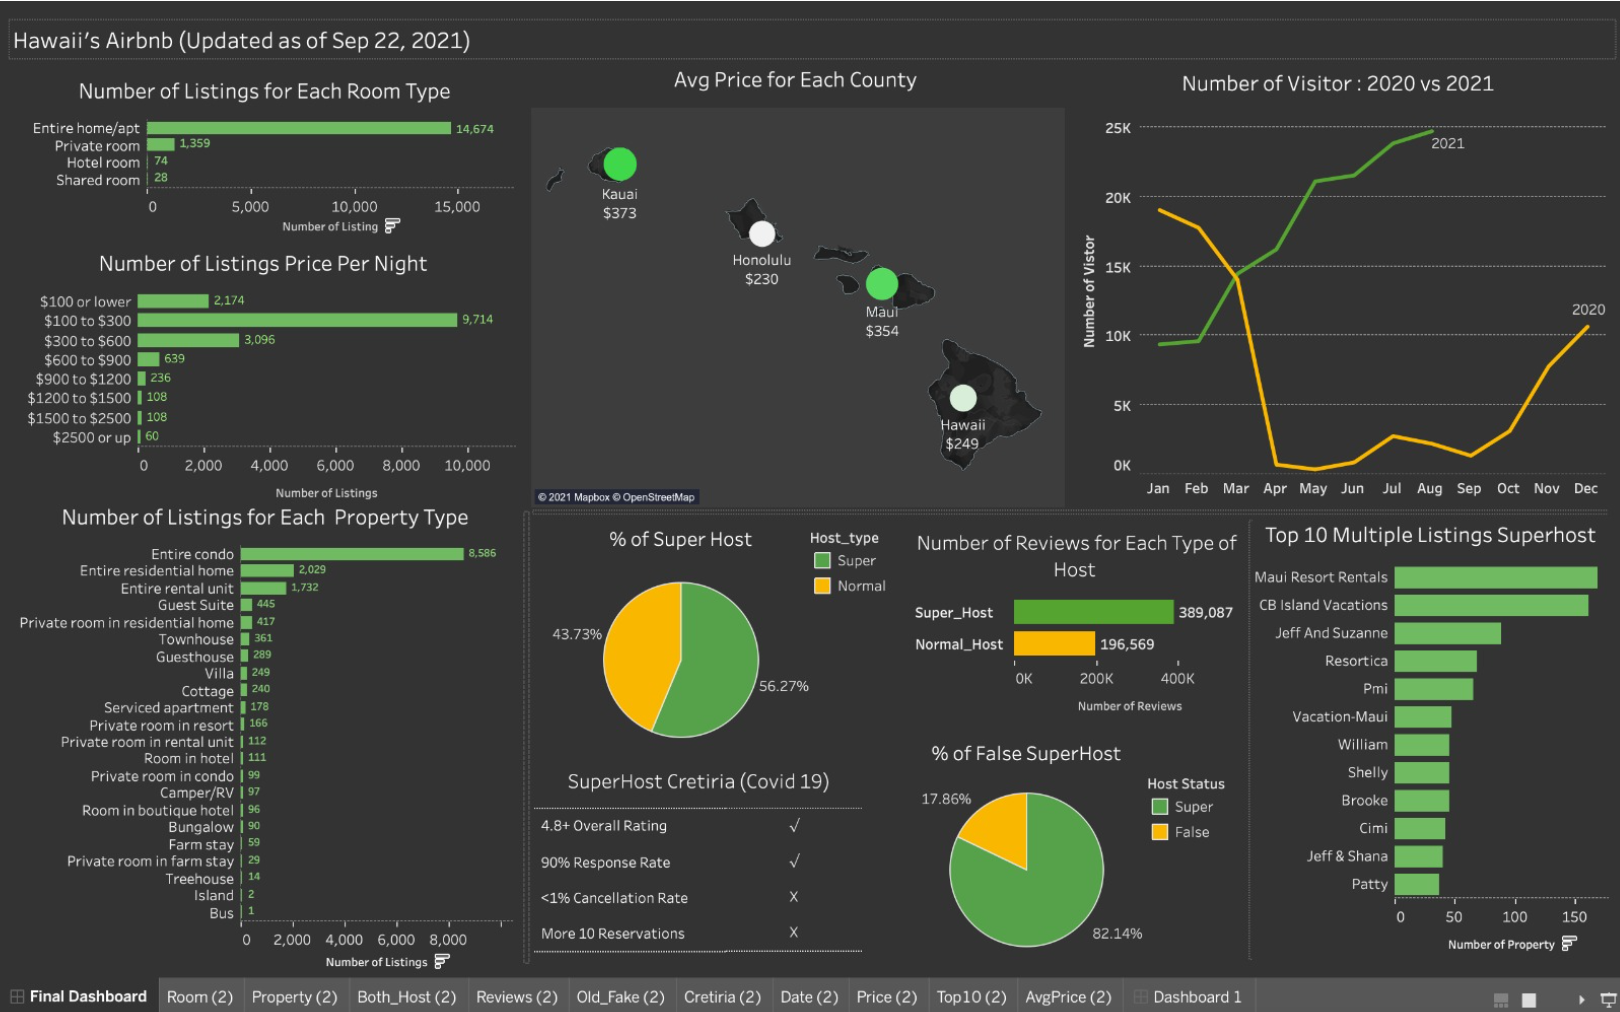

What the dashboard file says about the page in this screenshot:
{"tool":"tableau","page":{"name":"Final Dashboard ","canvas":[1000,1000],"units":"permille","ordinal":1},"visuals":[{"type":"title","box":[5.6,18.2,991,41.9]},{"type":"worksheet","title":"AvgPrice (2)","mark":"Automatic","rows":["latitude"],"cols":["longitude"],"box":[319.1,60.1,337.1,457.2]},{"type":"worksheet","title":"Date (2)","mark":"Line","rows":["Sheet1_F7D8DDAF36E140A29CE656B164C6A02B"],"cols":["Months"],"box":[659.5,63.8,330.3,453.6]},{"type":"worksheet","title":"Room (2)","mark":"Automatic","rows":["room_type (Sheet12)"],"cols":["counts (Sheet12)"],"box":[9.7,71.9,307.8,167.3]},{"type":"worksheet","title":"Price (2)","mark":"Bar","cols":["host_id"],"box":[13.6,250,301.9,248.2]},{"type":"text","box":[328.1,521,662.9,5.5]},{"type":"text","box":[322.3,521.6,3.9,464]},{"type":"worksheet","title":"Top10 (2)","mark":"Bar","rows":["host_name (Union)"],"cols":["Host_List_count (Union)"],"box":[772.1,525.4,219.5,457.6]},{"type":"worksheet","title":"Both_Host (2)","mark":"Pie","box":[330.2,531.1,179.2,240.1]},{"type":"text","box":[769.2,531.1,2.8,450.6]},{"type":"legend","title":"Both_Host (2)","param":"[federated.1mq5av61gt58yj18f8amq0g7day8].[none:host_is_superhost (Sheet16):nk]","box":[478.4,536.7,66.6,108.8]},{"type":"worksheet","title":"Cretiria (2)","mark":"Text","rows":["SuperHost Requirement"],"box":[565.8,540.8,203.7,216]},{"type":"worksheet","title":"Old_Fake (2)","mark":"Pie","box":[557.6,745.9,165.6,232.3]},{"type":"worksheet","title":"Reviews (2)","mark":"Bar","rows":["host_is_superhost"],"cols":["number_of_reviews"],"box":[324.1,773.1,231.5,192.4]},{"type":"legend","title":"Old_Fake (2)","param":"[federated.1mq5av61gt58yj18f8amq0g7day8].[none:Condtion:nk]","box":[706.8,791.3,62.8,88.9]}]}

Visuals, with their boxes on the dashboard's canvas, which has no fixed pixel size, in thousandths of its width and height (x1, y1, x2, y2). These are canvas units, not pixel positions in the 1620x1012 screenshot, which may show the page scaled, cropped or inside an application window:
title: bbox=(6, 18, 997, 60)
"AvgPrice (2)" worksheet: bbox=(319, 60, 656, 517)
"Date (2)" worksheet (Line marks): bbox=(660, 64, 990, 517)
"Room (2)" worksheet: bbox=(10, 72, 318, 239)
"Price (2)" worksheet (Bar marks): bbox=(14, 250, 316, 498)
text: bbox=(328, 521, 991, 526)
text: bbox=(322, 522, 326, 986)
"Top10 (2)" worksheet (Bar marks): bbox=(772, 525, 992, 983)
"Both_Host (2)" worksheet (Pie marks): bbox=(330, 531, 509, 771)
text: bbox=(769, 531, 772, 982)
"Both_Host (2)" legend: bbox=(478, 537, 545, 646)
"Cretiria (2)" worksheet (Text marks): bbox=(566, 541, 770, 757)
"Old_Fake (2)" worksheet (Pie marks): bbox=(558, 746, 723, 978)
"Reviews (2)" worksheet (Bar marks): bbox=(324, 773, 556, 966)
"Old_Fake (2)" legend: bbox=(707, 791, 770, 880)
